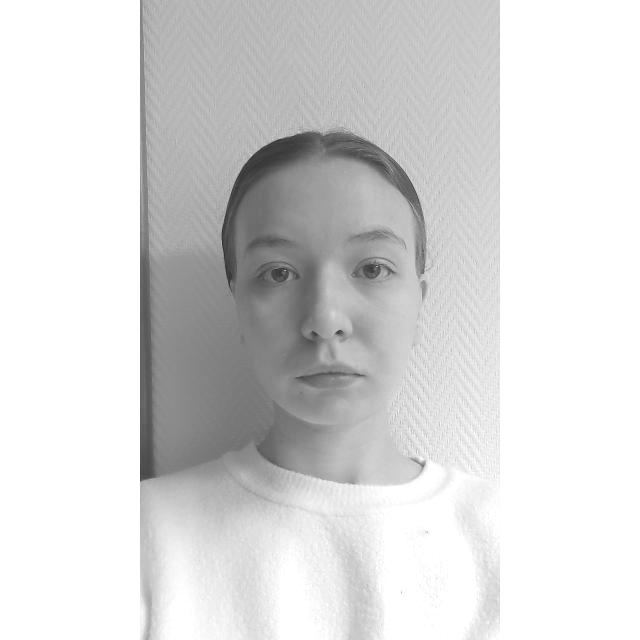real: (232, 168, 427, 420)
